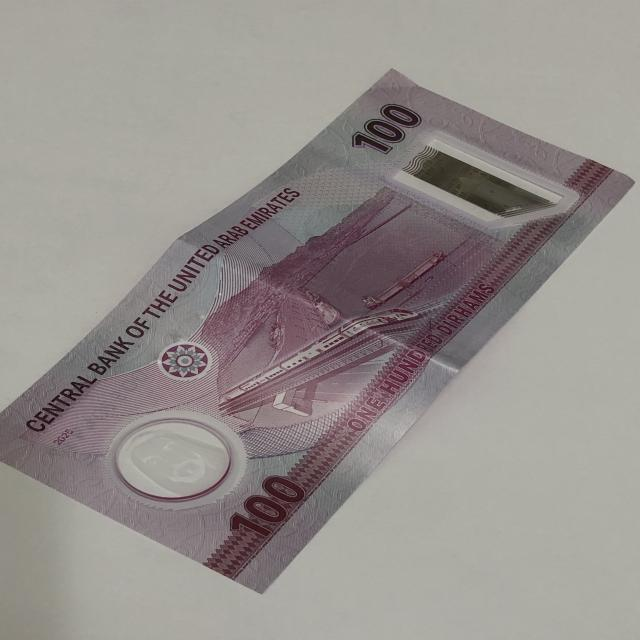100_AED: (0, 64, 637, 604)
